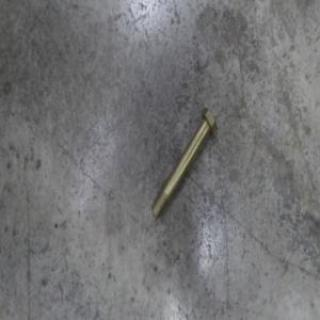Bolttrack_idkeyframe: (150, 103, 217, 220)
